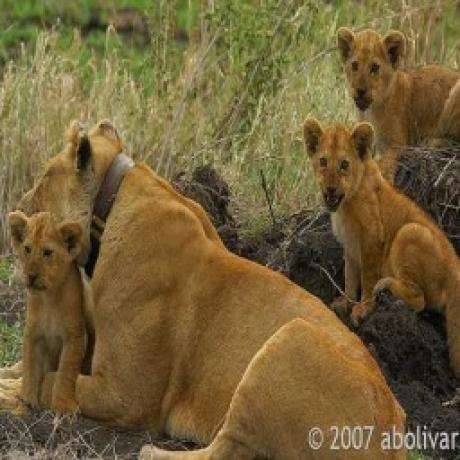Lion: (20, 117, 406, 460), (300, 113, 460, 378), (8, 206, 91, 422), (335, 28, 460, 151)
